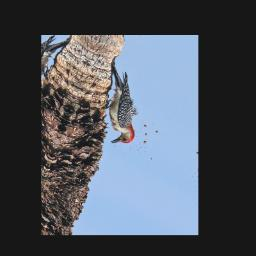Woodpecker: (85, 60, 156, 153)
